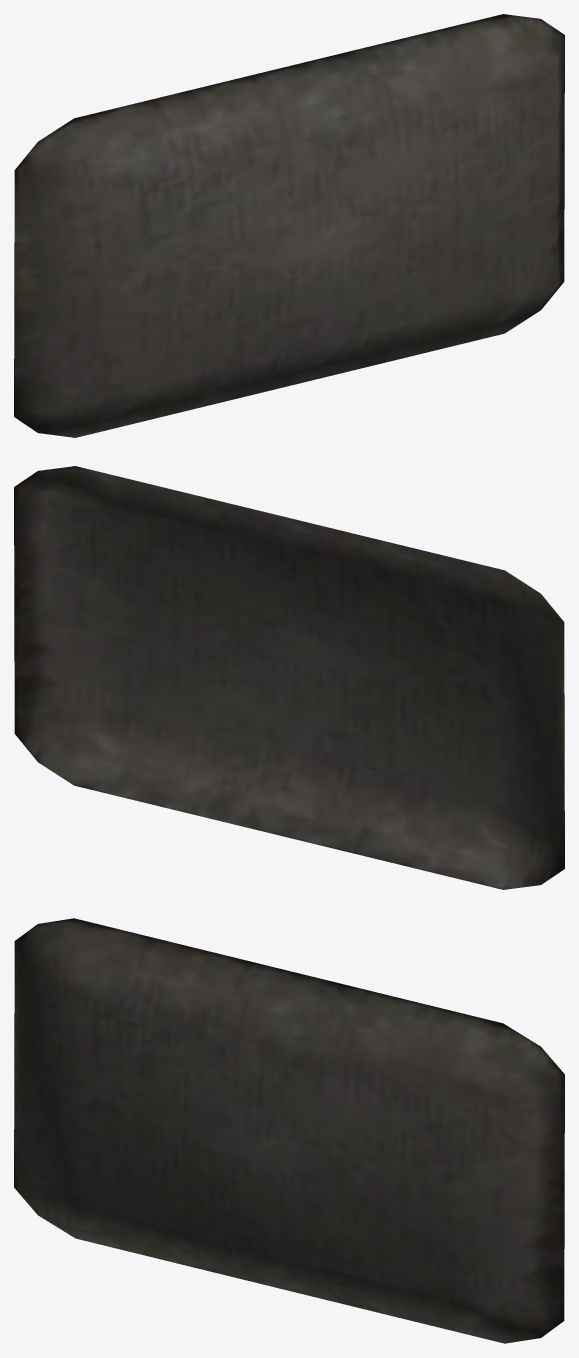
The model's file is taillight.glb.
3 renders of one model, top to bottom at view 1: azimuth 30°, elevation 25°; view 2: azimuth 150°, elevation 25°; view 3: azimuth 330°, elevation 25°, orthographic.
Visible parts, largest first — view 1: TailLight; view 2: TailLight; view 3: TailLight.
Part boxes in pixels (left/top/right/bottom): TailLight: left=14, top=14, right=564, bottom=437; TailLight: left=14, top=466, right=564, bottom=889; TailLight: left=14, top=918, right=564, bottom=1343.
Size of the model in its own units: 0.2608 by 0.1449 by 0.0253.
1 material, 1 textured.
